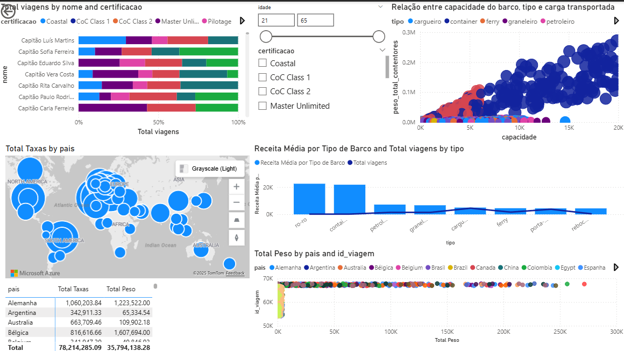

This screenshot's page, from the dashboard's own definition file:
{"tool":"powerbi","page":{"name":"Page 2","canvas":[1280,720],"ordinal":1},"visuals":[{"type":"hundredPercentStackedBarChart","fields":{"Category":["condutor.nome"],"Y":["viagem.Total viagens"],"Series":["condutor.certificacao"]},"box":[0,0,517.3,278.6],"z":0},{"type":"azureMap","fields":{"Category":["origem.pais"],"Size":["viagem.Total Taxas"]},"box":[9.6,289.5,507.7,279.9],"z":1},{"type":"pivotTable","fields":{"Rows":["origem.pais"],"Values":["viagem.Total Taxas","viagem.Total Peso"]},"box":[10,570,320,150],"z":2},{"type":"slicer","fields":{"Values":["condutor.idade"]},"box":[517.3,0,279.9,98.8],"z":3},{"type":"slicer","fields":{"Values":["condutor.certificacao"]},"box":[517.3,86.4,285.4,150.9],"z":4},{"type":"scatterChart","title":"Relação entre capacidade do barco, tipo e carga transportada","fields":{"X":["barco.capacidade"],"Series":["barco.tipo"],"Y":["viagem.peso_total_contentores"],"Size":["Avg(barco.tamanho)"]},"box":[797.3,0,483,289.5],"z":5},{"type":"actionButton","box":[0,0,100,40],"z":7},{"type":"scatterChart","fields":{"Y":["viagem.id_viagem"],"X":["viagem.Total Peso"],"Series":["origem.pais"]},"box":[517.3,503.6,763,197.6],"z":8},{"type":"lineClusteredColumnComboChart","fields":{"Category":["barco.tipo"],"Y":["viagem.Receita Média por Tipo de Barco"],"Y2":["viagem.Total viagens"]},"box":[516.7,290,763.3,213.3],"z":9}]}

Visuals, with their boxes in screenshot pixels (x1, y1, x2, y2), scaled from the page's 1280x720 canvas onto the 624x351 screenshot:
hundredPercentStackedBarChart - condutor.nome x viagem.Total viagens: locate(0, 0, 252, 136)
azureMap - origem.pais x viagem.Total Taxas: locate(5, 141, 252, 278)
pivotTable - origem.pais x viagem.Total Taxas: locate(5, 278, 161, 350)
slicer - condutor.idade: locate(252, 0, 389, 48)
slicer - condutor.certificacao: locate(252, 42, 391, 116)
"Relação entre capacidade do barco, tipo e carga transportada" scatterChart: locate(389, 0, 623, 141)
actionButton: locate(0, 0, 49, 20)
scatterChart - viagem.id_viagem x viagem.Total Peso: locate(252, 246, 623, 342)
lineClusteredColumnComboChart - barco.tipo x viagem.Receita Média por Tipo de Barco: locate(252, 141, 623, 245)
